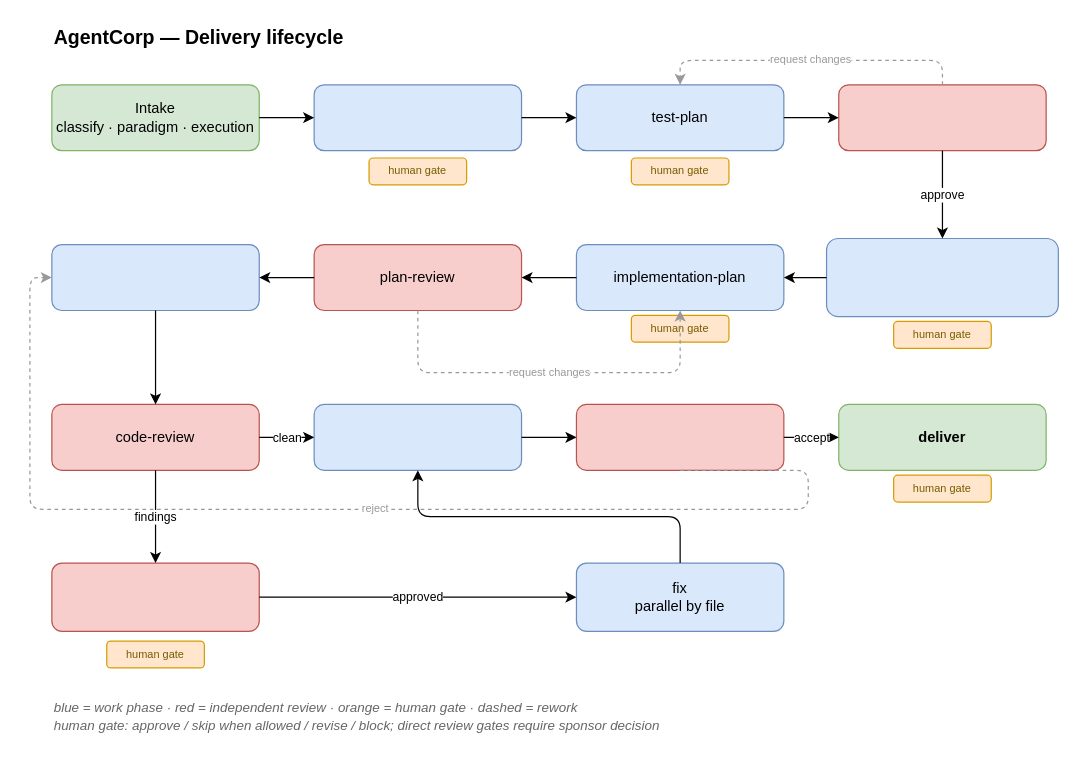
Some shapes in this 1086 by 761 pixel diagram are drawn without their labels. Here are the shapes that lost their labels. From the top down, the box of each, then its label:
(313, 84, 522, 151): validate-requirements
(838, 84, 1046, 151): test-plan-review
(51, 243, 259, 310): implement
(825, 237, 1058, 317): design architecture / impact / diagnosis (+ interface-contract when shared)
(313, 403, 522, 470): verify
(575, 403, 784, 470): acceptance-review
(51, 562, 259, 631): review-research independent re-verify
